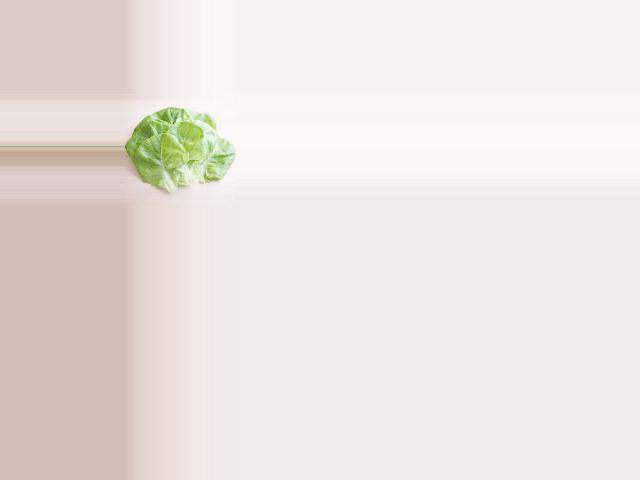lettuce: (127, 107, 232, 188)
